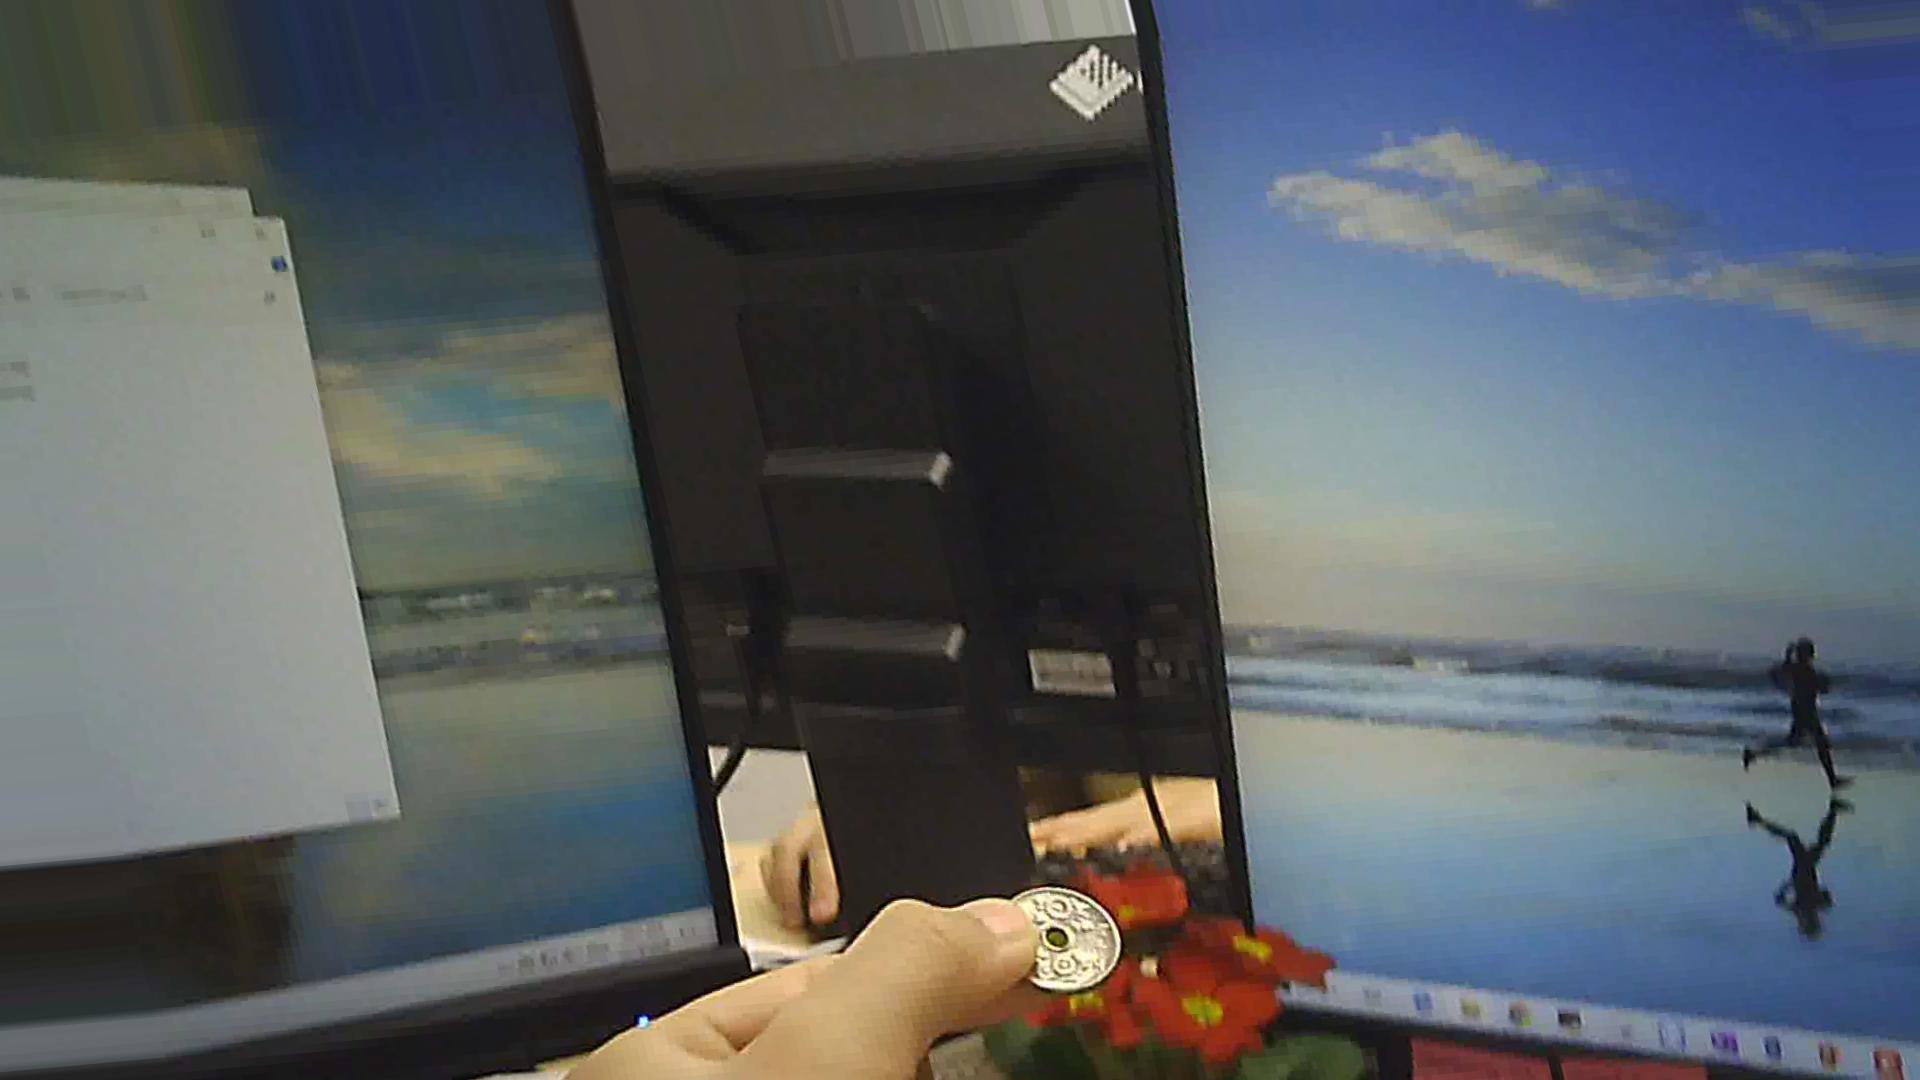50 Yen: (981, 869, 1124, 993)
